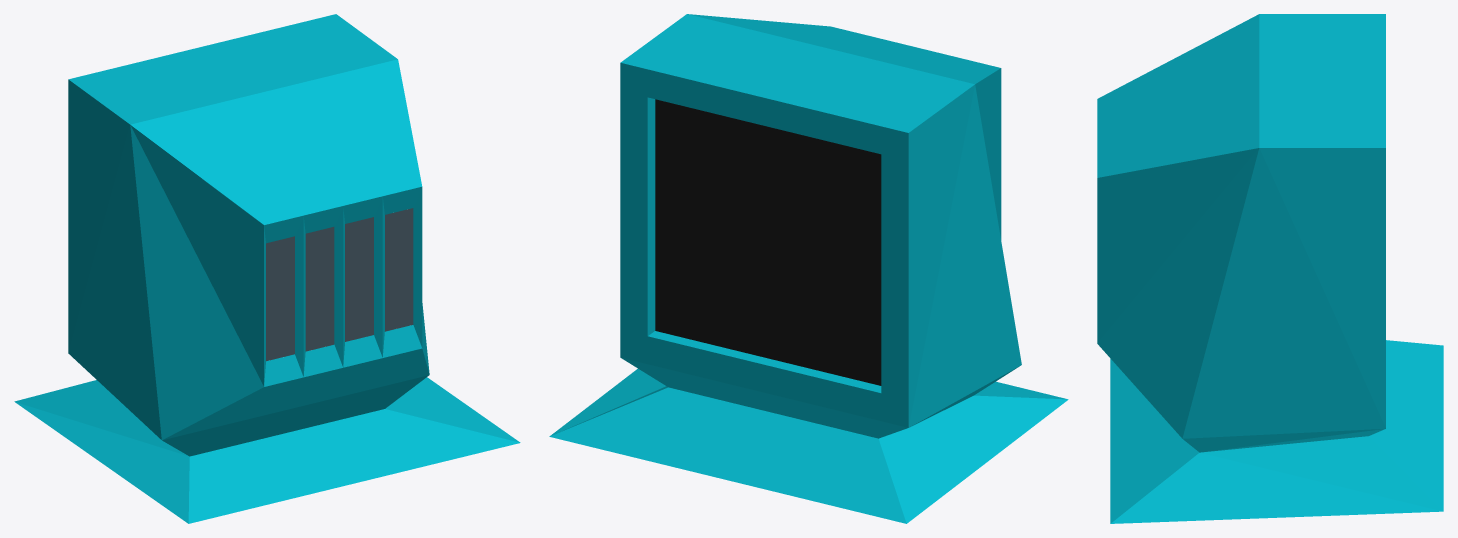
The model's file is monitor.glb.
The picture shows the model from 3 angles, left to right: view 1: azimuth 30°, elevation 25°; view 2: azimuth 150°, elevation 25°; view 3: azimuth 270°, elevation 25°; orthographic projection. The views are drawn at different scales.
Visible parts, largest first — view 1: Node; view 2: Node; view 3: Node.
Boxes of the visible parts, bbox=[...] form: Node: bbox=[14, 14, 520, 523]; Node: bbox=[549, 14, 1068, 523]; Node: bbox=[1097, 14, 1443, 523].
Size of the model in its own units: 0.5783 by 0.55 by 0.4916.
